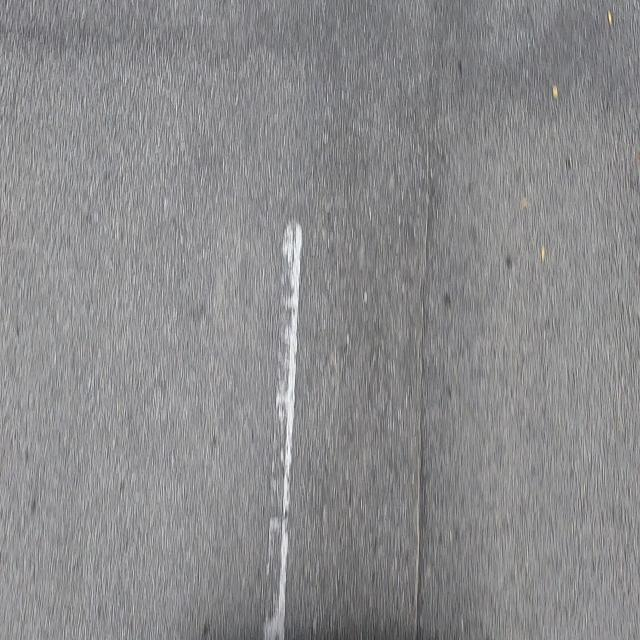Retak-Memanjang: (410, 161, 437, 640)
